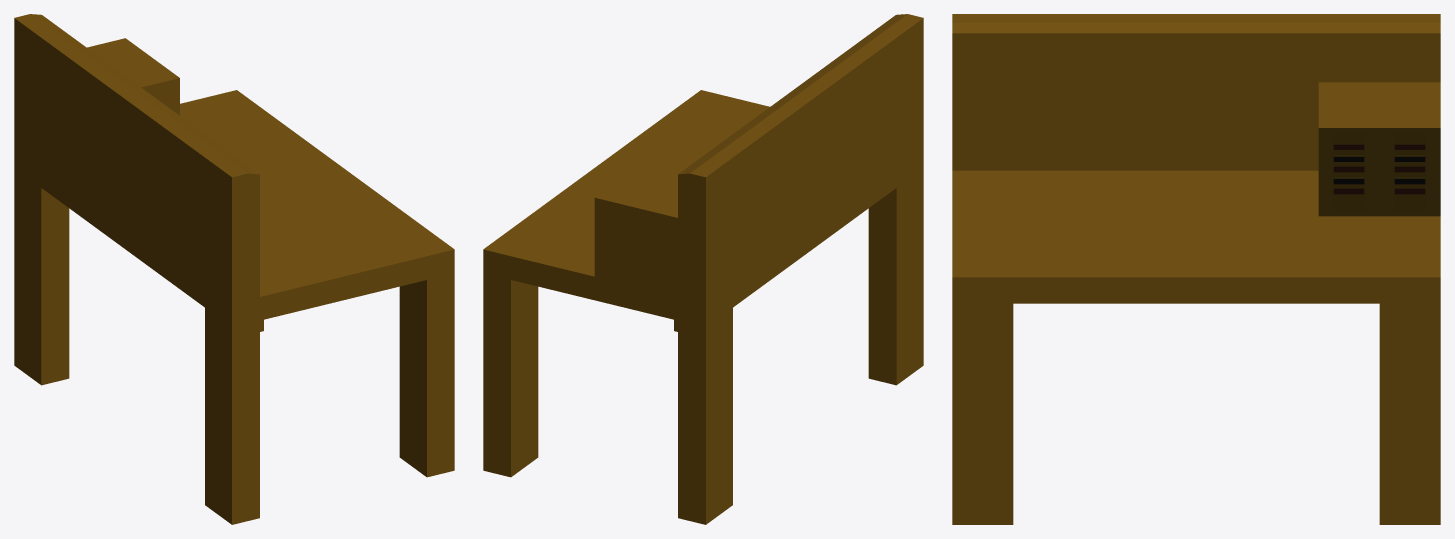
The model's file is Desk.fbx.
3 renders of one model, left to right at view 1: azimuth 30°, elevation 25°; view 2: azimuth 150°, elevation 25°; view 3: azimuth 270°, elevation 25°, orthographic. The views are drawn at different scales.
Visible parts, largest first — view 1: Desk; view 2: Desk; view 3: Desk.
Part boxes in pixels (x1=…): Desk: x1=14, y1=14, x2=454, y2=524; Desk: x1=483, y1=14, x2=923, y2=524; Desk: x1=952, y1=14, x2=1440, y2=524.
Bounding box in the file's own units: 590 × 880 × 1000.
